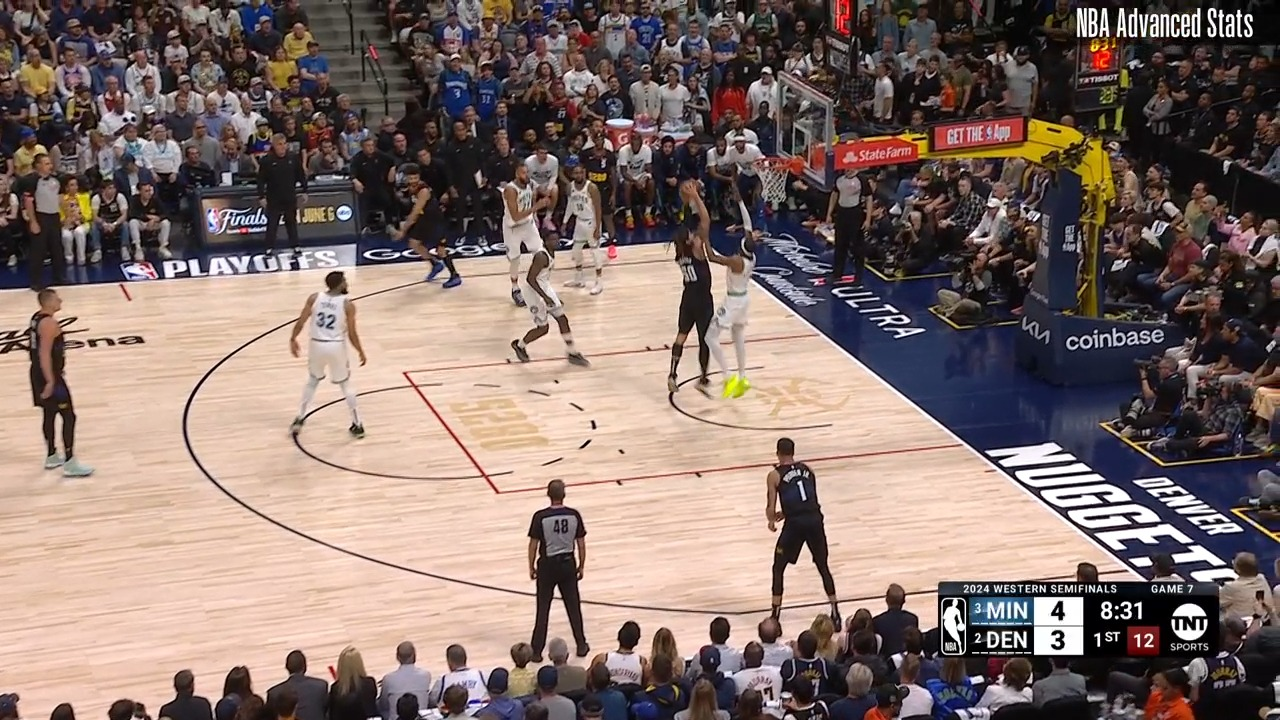basketball: (679, 178, 703, 203)
